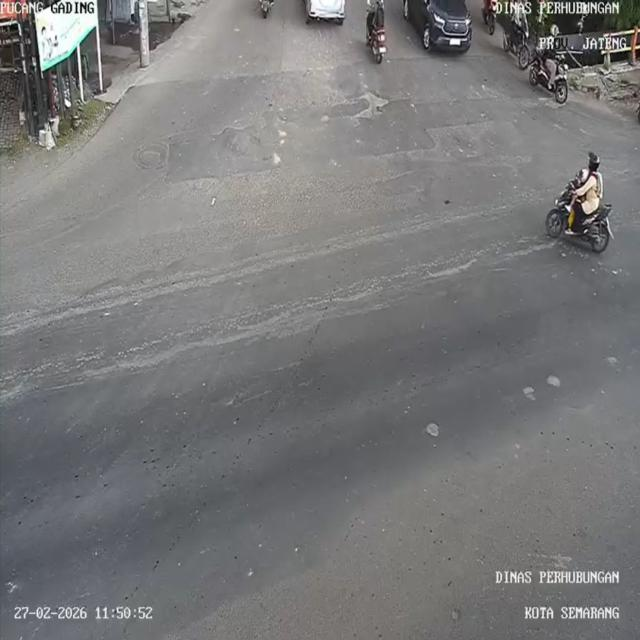motorcycle: (542, 192, 613, 256), (532, 51, 568, 101), (365, 17, 390, 64)
person: (582, 152, 602, 218), (545, 26, 559, 90), (367, 1, 388, 30), (574, 166, 587, 196)
rider_region: (541, 150, 618, 259), (530, 24, 568, 104), (363, 1, 390, 66)
